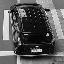motor: (9, 3, 49, 57)
